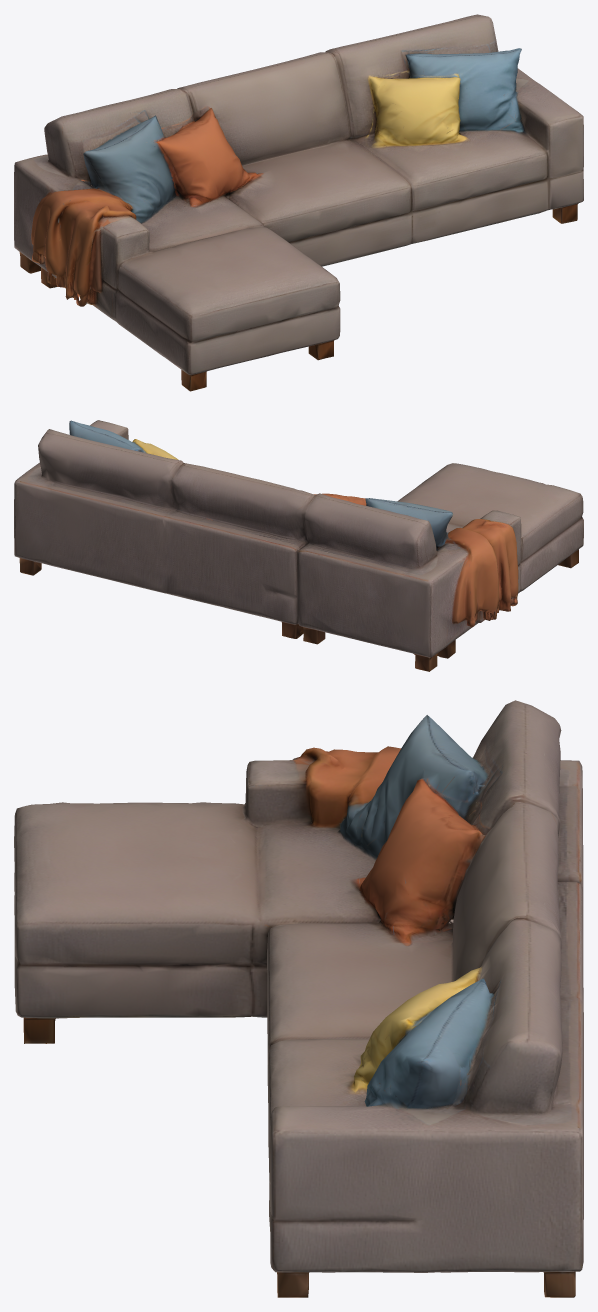
The model's file is Meshy_AI_Cozy_Corner_Sofa_0108011541_texture.fbx.
3 renders of one model, top to bottom at view 1: azimuth 30°, elevation 25°; view 2: azimuth 150°, elevation 25°; view 3: azimuth 270°, elevation 25°, orthographic. The views are drawn at different scales.
Parts seen in each view (by area): view 1: Mesh_0; view 2: Mesh_0; view 3: Mesh_0.
Boxes of the visible parts, x1=… form: Mesh_0: x1=14, y1=14, x2=583, y2=391; Mesh_0: x1=14, y1=420, x2=583, y2=671; Mesh_0: x1=14, y1=700, x2=583, y2=1297.
Size of the model in its own units: 191 by 56.78 by 117.
Materials: 1 (1 with a texture image).
